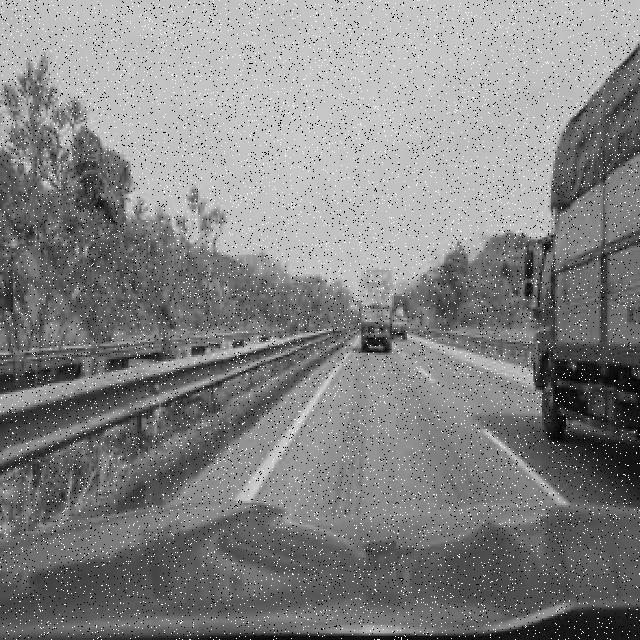clear-road: (260, 337, 640, 516)
